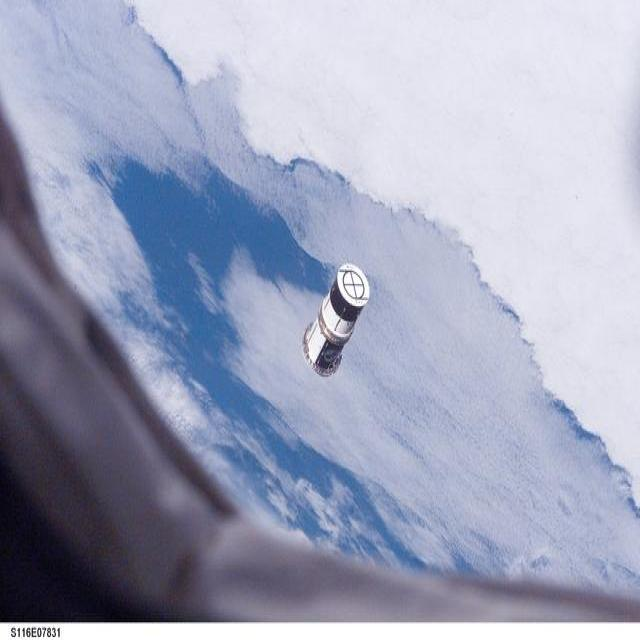satellite: (304, 265, 369, 376)
